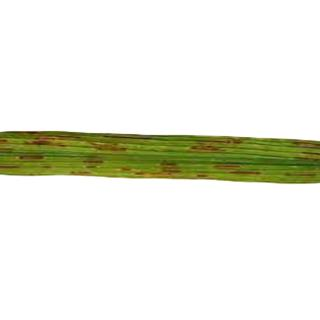bercak-Cokelat: (24, 132, 86, 151), (213, 161, 264, 179), (118, 163, 158, 183), (85, 138, 128, 154), (158, 158, 188, 179), (185, 142, 222, 156), (291, 138, 320, 153), (76, 155, 101, 169), (20, 151, 47, 162), (68, 169, 94, 179)
